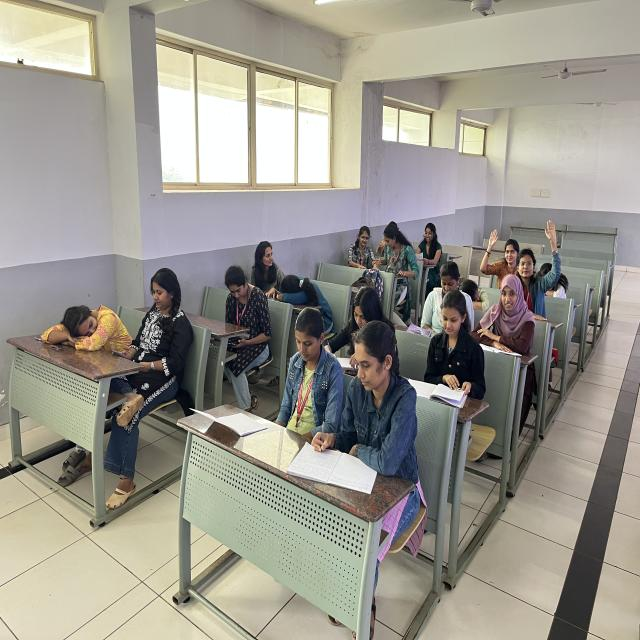Hand Rising: (514, 218, 571, 294), (479, 224, 519, 283)
Reading: (411, 288, 480, 407), (412, 220, 446, 270)
Sleeping: (37, 287, 135, 375), (271, 271, 332, 316), (456, 275, 493, 314), (536, 260, 569, 301)
Using Phone: (110, 264, 193, 386), (213, 262, 275, 358)
Writing: (312, 314, 408, 492), (319, 279, 374, 368)
